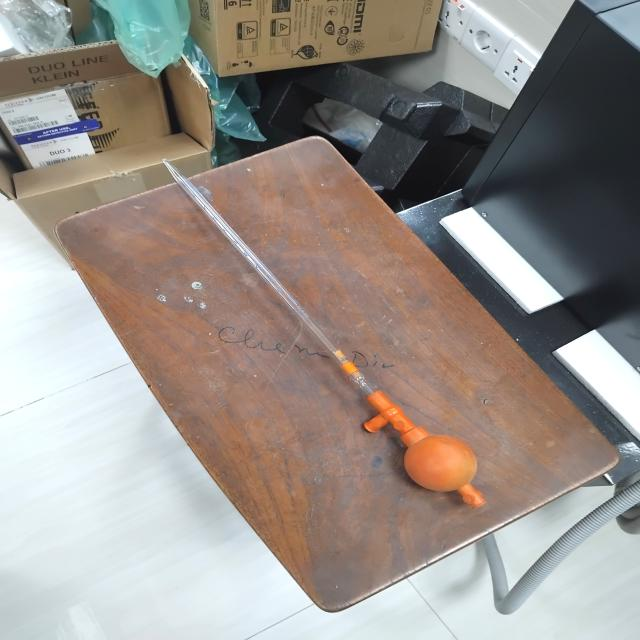Volumetric_Pipet: (127, 140, 499, 544)
